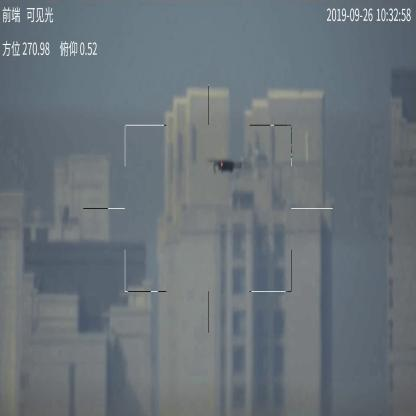uav: (209, 156, 247, 174)
